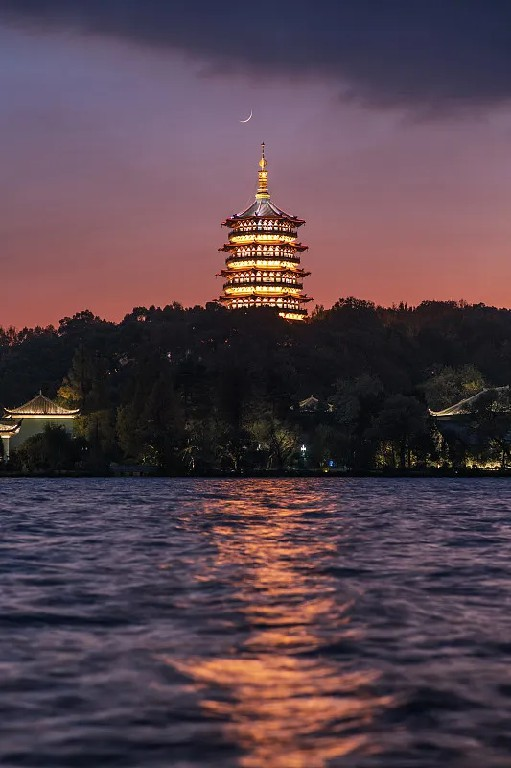Leifeng: (218, 140, 313, 325)
